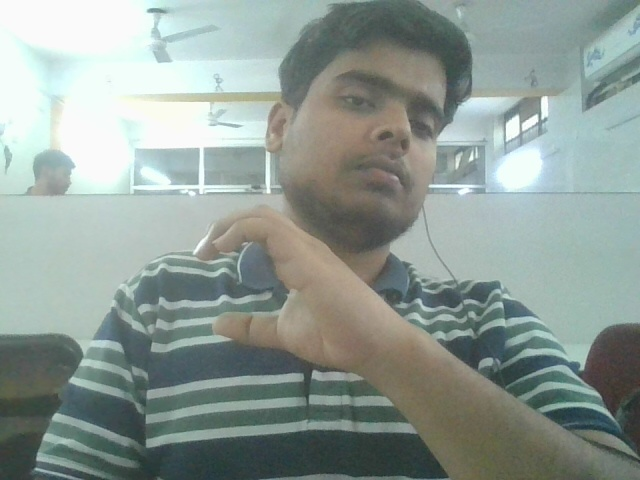No: (176, 183, 393, 395)
